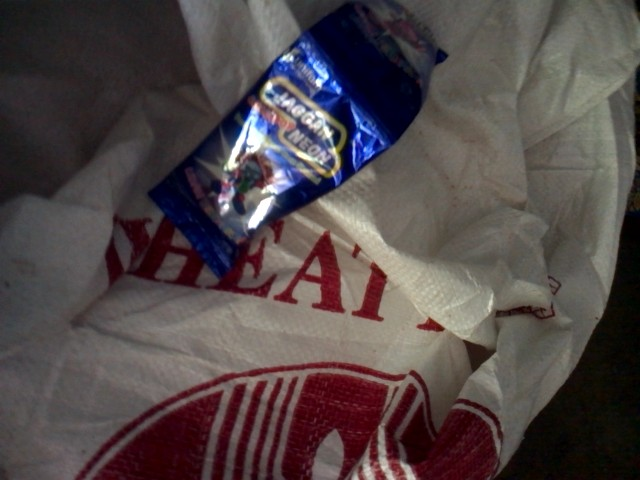jagoan neon: (149, 23, 412, 280)
